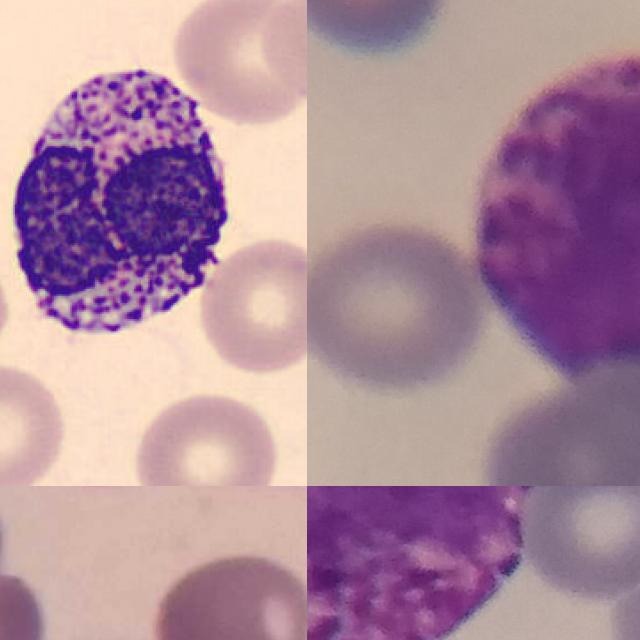Basophil: (0, 44, 244, 358), (472, 46, 640, 375), (307, 486, 538, 640)
RBC: (166, 0, 307, 125), (194, 232, 307, 377), (127, 386, 285, 486), (0, 361, 69, 486), (260, 0, 307, 110)
